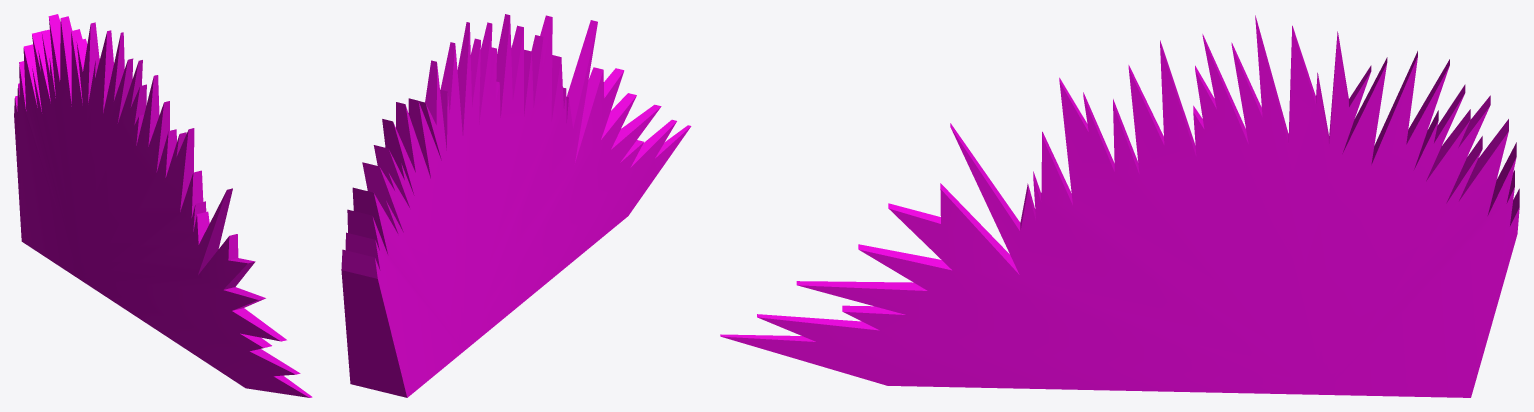
The model's file is Hat_mohawk.FBX.
3 views of the same model, side by side, from view 1: azimuth 30°, elevation 25°; view 2: azimuth 150°, elevation 25°; view 3: azimuth 270°, elevation 25° (orthographic). The views are drawn at different scales.
Visible parts, largest first — view 1: Hat_mohawk; view 2: Hat_mohawk; view 3: Hat_mohawk.
Part boxes in pixels (x1,y1,x2,y2): Hat_mohawk: (14,14,312,397); Hat_mohawk: (341,14,691,397); Hat_mohawk: (720,15,1519,397).
Size of the model in its own units: 8.29 by 42.22 by 83.53.
